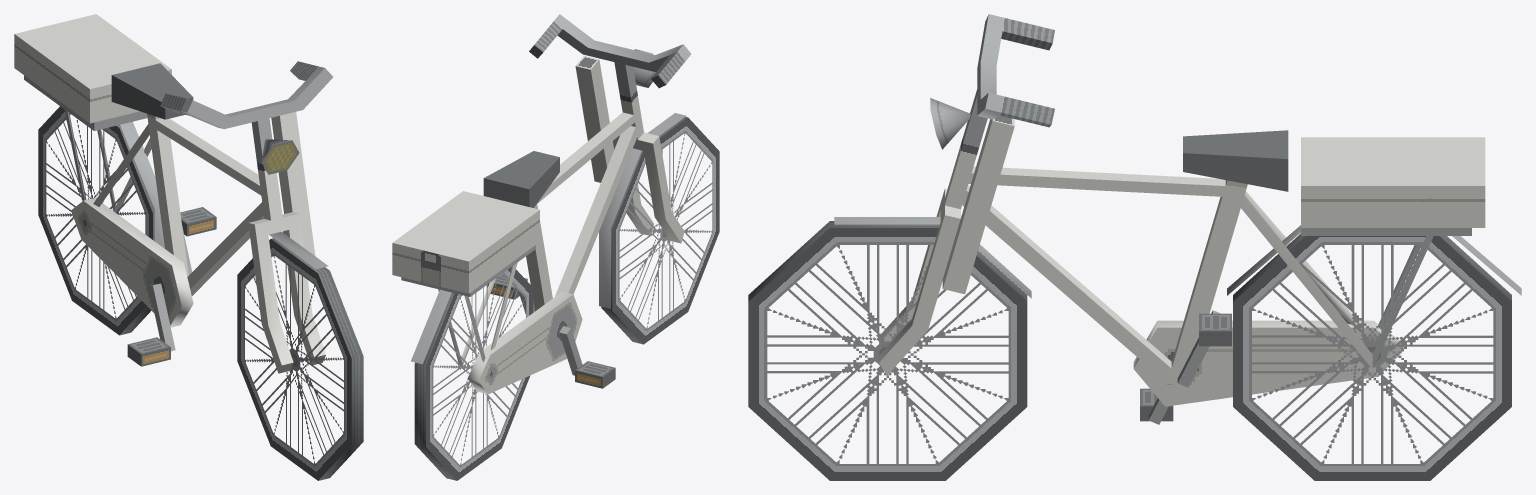
File: 02f9_Police_Bike.glb
The picture shows the model from 3 angles, left to right: view 1: azimuth 30°, elevation 25°; view 2: azimuth 150°, elevation 25°; view 3: azimuth 270°, elevation 25°; orthographic projection. The views are drawn at different scales.
Visible parts, largest first — view 1: part_0; view 2: part_0; view 3: part_0.
Boxes of the visible parts, bbox=[...] form: part_0: bbox=[14, 14, 363, 480]; part_0: bbox=[392, 14, 719, 480]; part_0: bbox=[748, 14, 1521, 480].
Bounding box in the file's own units: 0.5364 × 1.22 × 2.01.
1 material, 1 textured.
